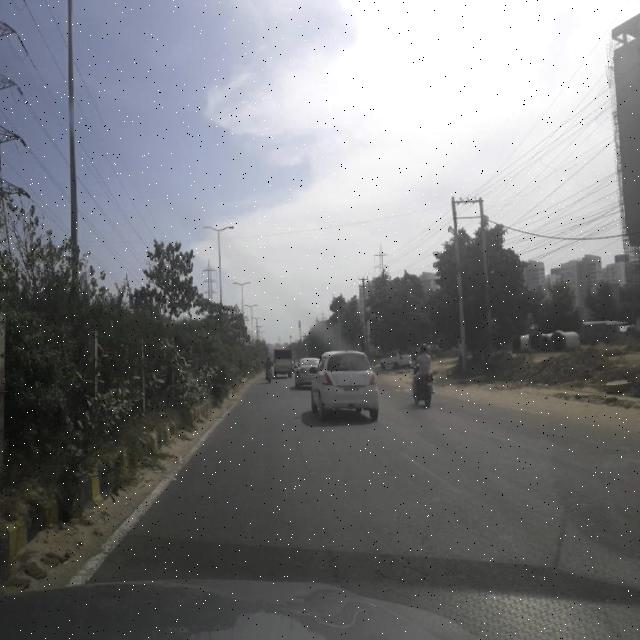D00: (311, 504, 349, 582), (274, 408, 312, 486)
D20: (151, 423, 595, 613)
